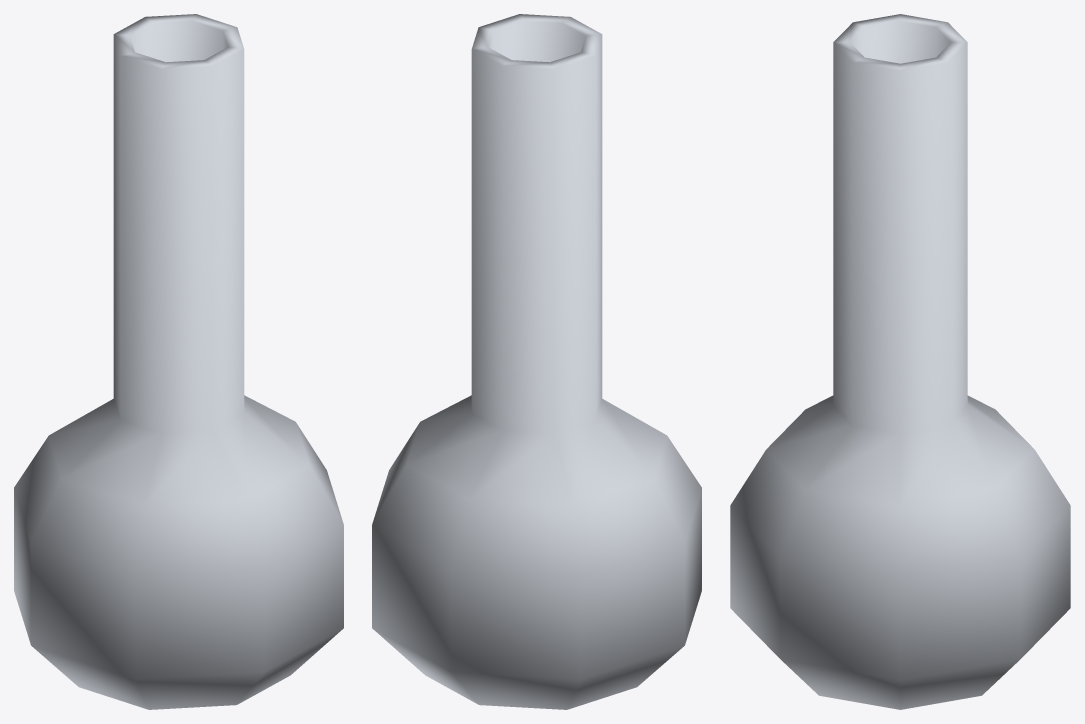
Rendered from bottle_glassware_kjeldahl_flask_small.glb.
The picture shows the model from 3 angles, left to right: view 1: azimuth 30°, elevation 25°; view 2: azimuth 150°, elevation 25°; view 3: azimuth 270°, elevation 25°; orthographic projection.
Visible parts, largest first — view 1: bottle_glassware_kjeldahl_flask_small; view 2: bottle_glassware_kjeldahl_flask_small; view 3: bottle_glassware_kjeldahl_flask_small.
Part boxes in pixels (x1,y1,x2,y2): bottle_glassware_kjeldahl_flask_small: [14, 14, 343, 709]; bottle_glassware_kjeldahl_flask_small: [372, 14, 701, 709]; bottle_glassware_kjeldahl_flask_small: [730, 14, 1070, 709].
Bounding box in the file's own units: 8.1 × 16.62 × 8.1.
Materials: 1 (1 with a texture image).
